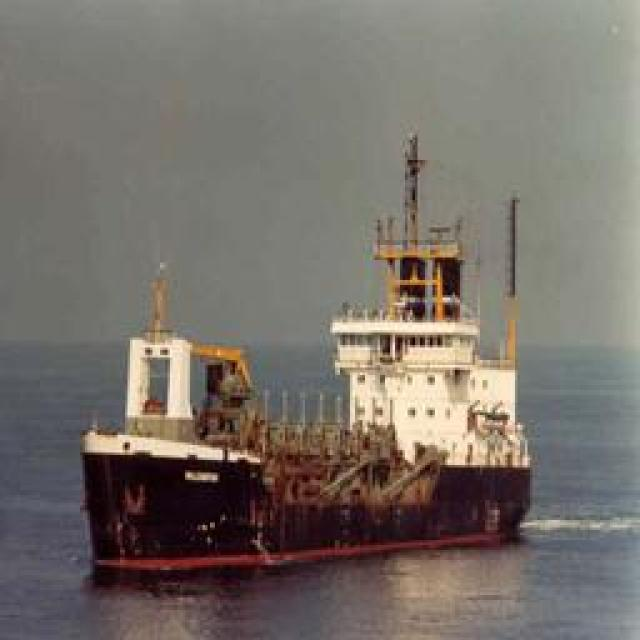CIV_Ship: (78, 212, 538, 582)
